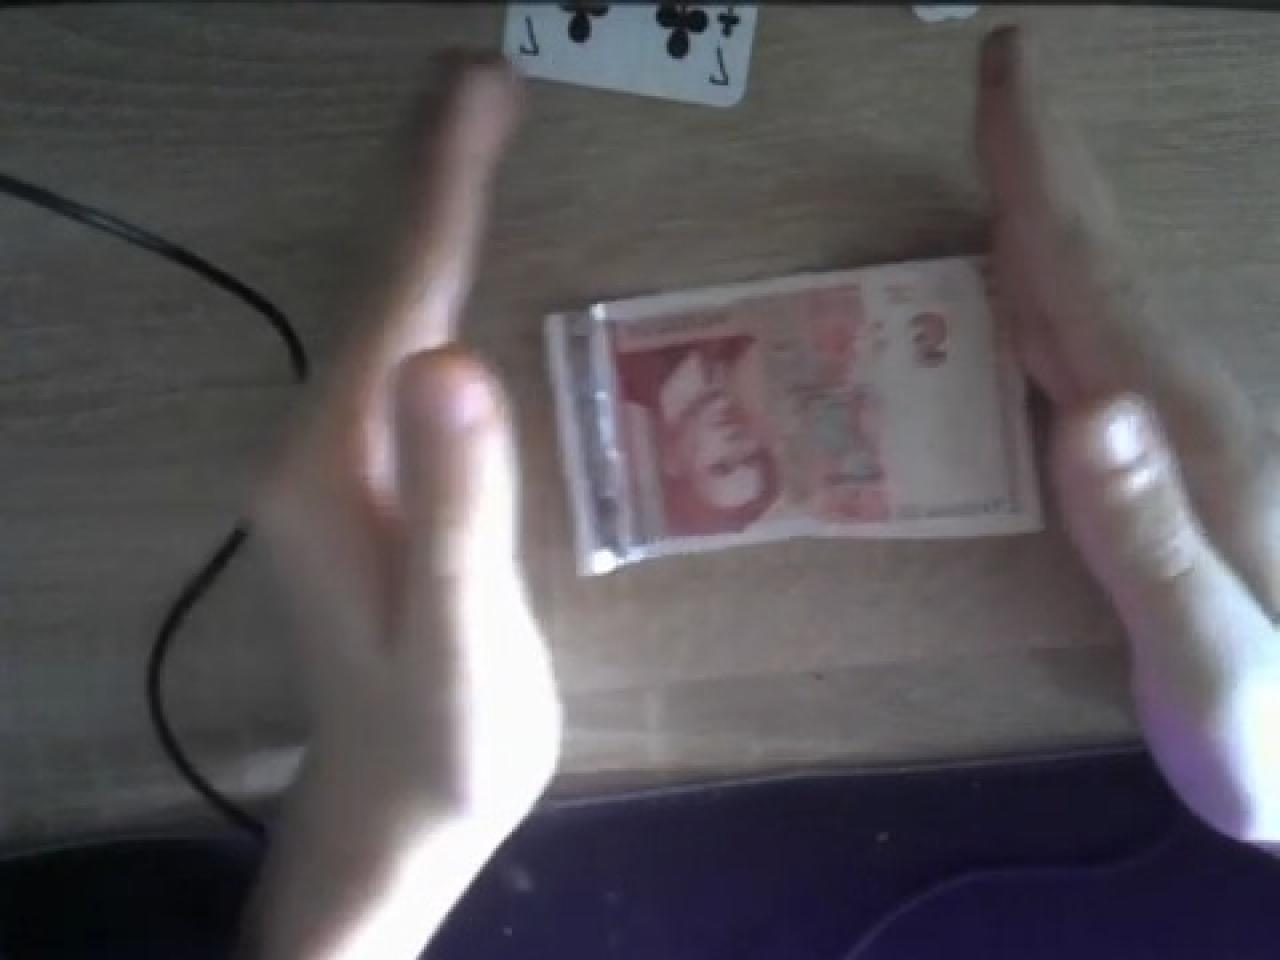5leva: (547, 251, 1045, 573)
